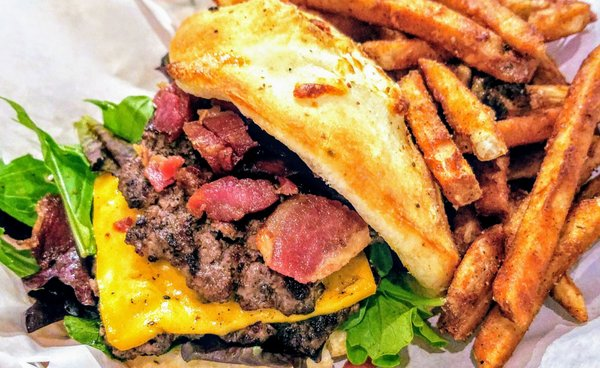soup: (90, 0, 478, 354)
